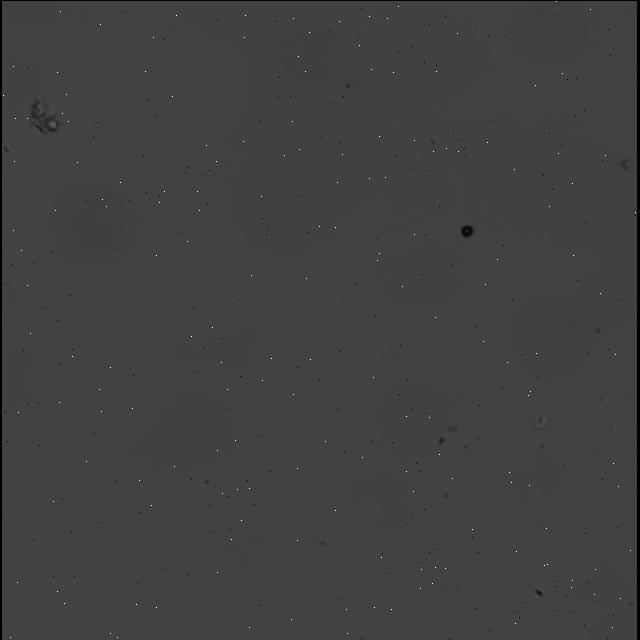microbeads: (458, 222, 474, 238)
